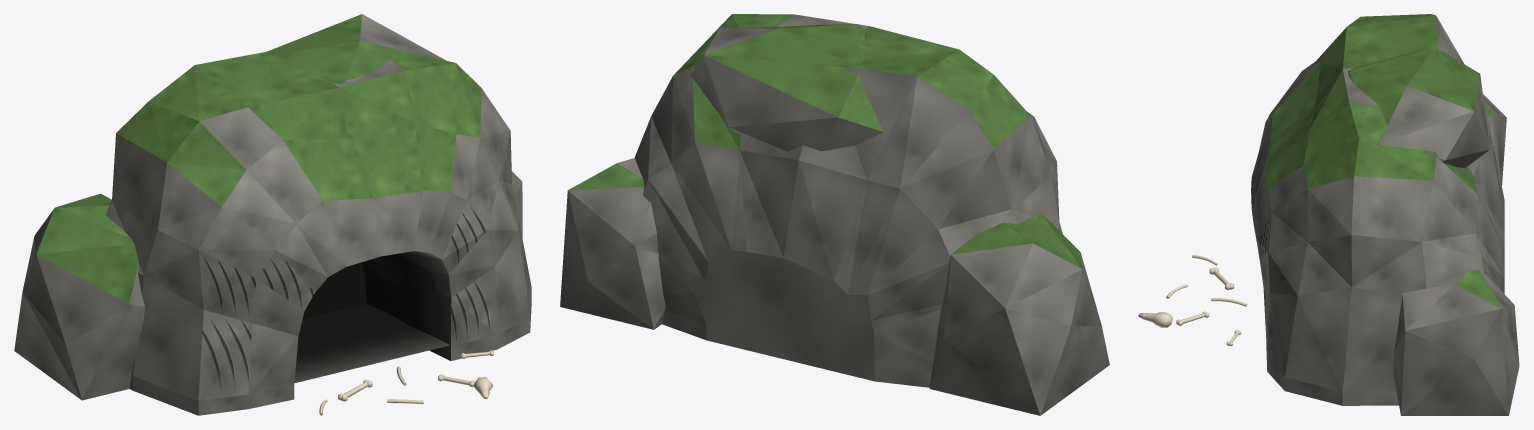
Rendered from wolf_den.fbx.
The picture shows the model from 3 angles, left to right: view 1: azimuth 30°, elevation 25°; view 2: azimuth 150°, elevation 25°; view 3: azimuth 270°, elevation 25°; orthographic projection. The views are drawn at different scales.
Parts seen in each view (by area): view 1: wolf_den_Rock, wolf_den_Inside, wolf_den_Bones; view 2: wolf_den_Rock; view 3: wolf_den_Rock, wolf_den_Bones.
Boxes of the visible parts, x1=… form: wolf_den_Rock: x1=14, y1=14, x2=531, y2=415; wolf_den_Inside: x1=294, y1=251, x2=451, y2=382; wolf_den_Bones: x1=319, y1=350, x2=493, y2=415; wolf_den_Rock: x1=560, y1=14, x2=1109, y2=415; wolf_den_Rock: x1=1251, y1=14, x2=1519, y2=415; wolf_den_Bones: x1=1138, y1=255, x2=1246, y2=346.
Bounding box in the file's own units: 30.48 × 16.57 × 22.24.
1 material, 1 textured.
